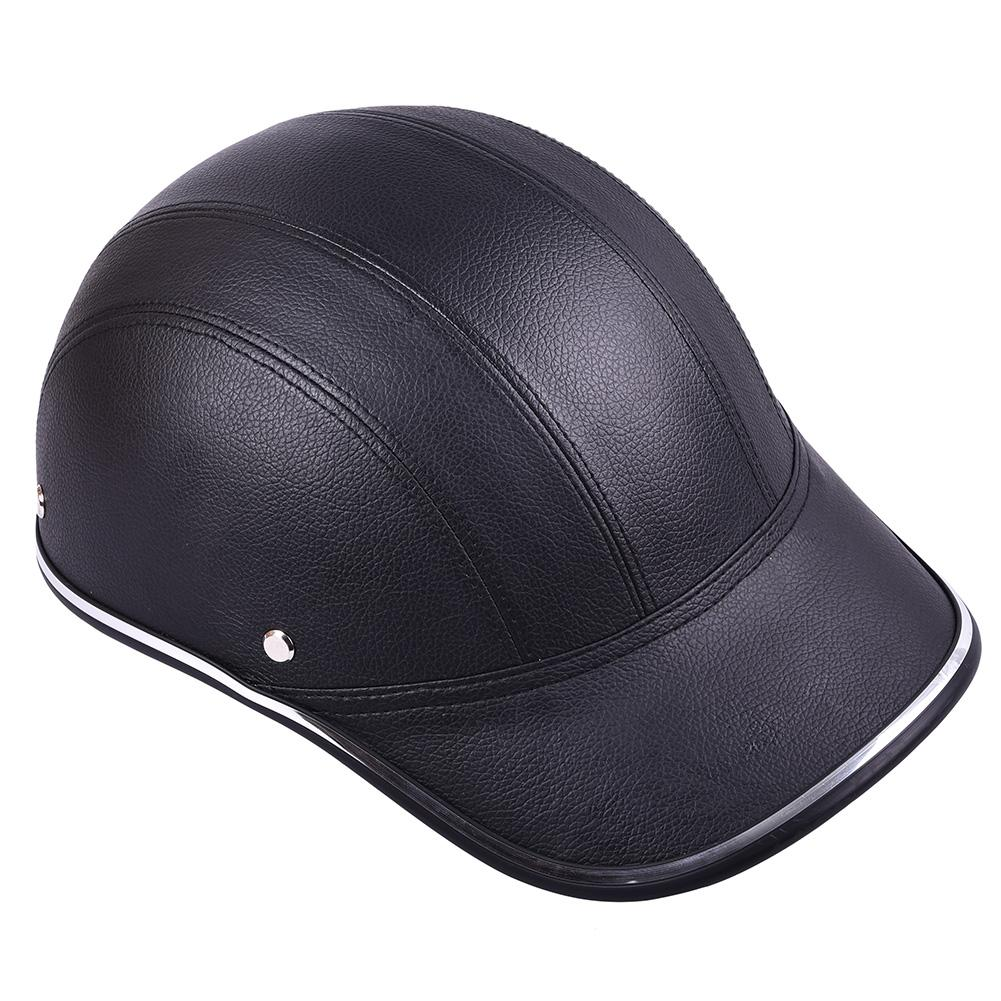helmet: (36, 107, 982, 901)
